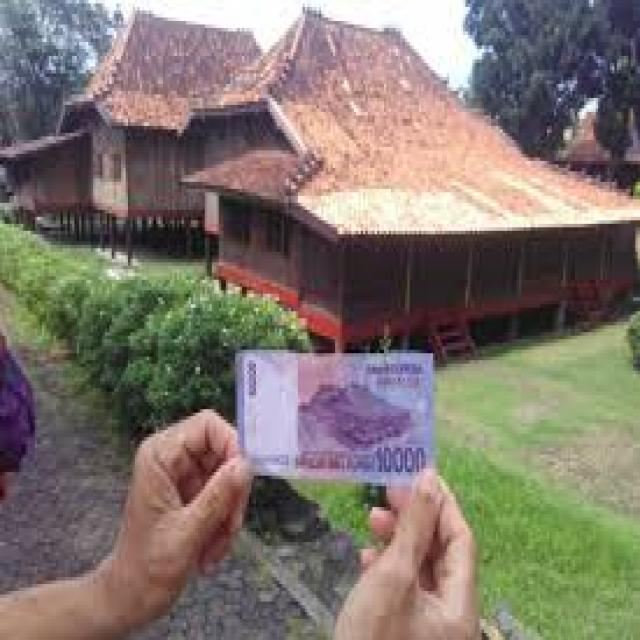sepuluh ribu rupiah: (235, 350, 431, 483)
